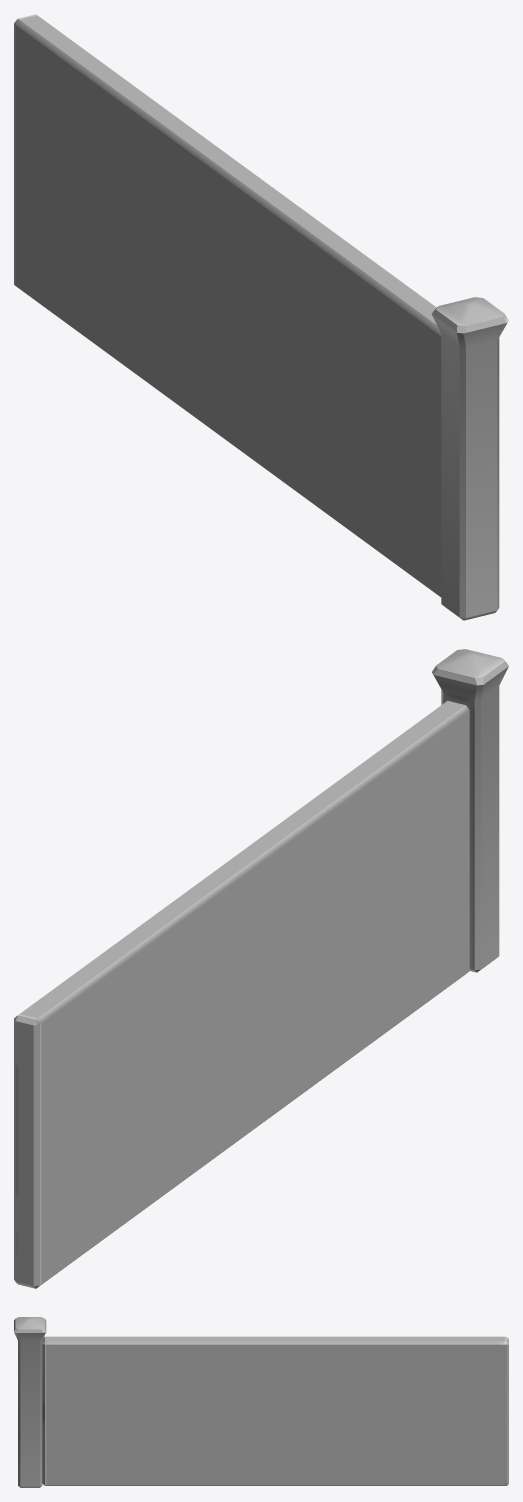
The model's file is barrier_LOD0.fbx.
3 renders of one model, top to bottom at view 1: azimuth 30°, elevation 25°; view 2: azimuth 150°, elevation 25°; view 3: azimuth 270°, elevation 25°, orthographic. The views are drawn at different scales.
Visible parts, largest first — view 1: barrier_LOD0; view 2: barrier_LOD0; view 3: barrier_LOD0.
Part boxes in pixels (bbox=[...]): barrier_LOD0: bbox=[14, 14, 508, 620]; barrier_LOD0: bbox=[14, 649, 508, 1288]; barrier_LOD0: bbox=[14, 1317, 508, 1487].
Bounding box in the file's own units: 26.27 × 148 × 403.
